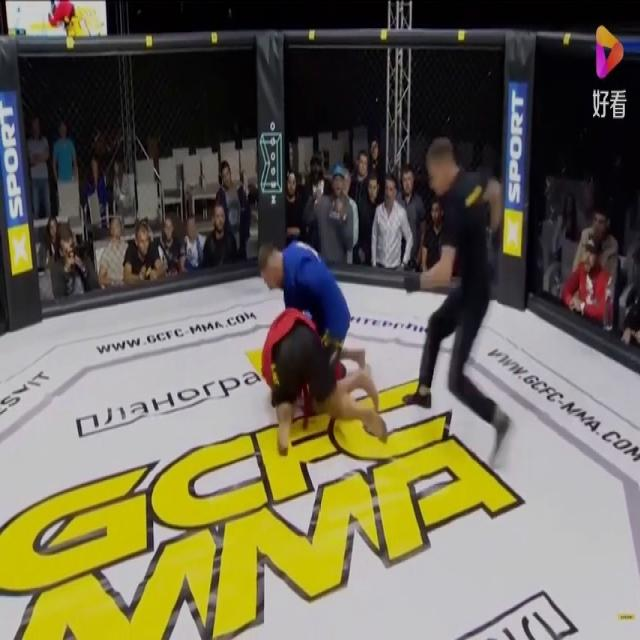fight: (255, 235, 396, 459)
non-fight: (412, 135, 514, 441), (553, 226, 614, 336), (369, 174, 414, 272), (47, 223, 100, 304), (316, 170, 357, 270), (122, 220, 168, 286), (203, 203, 240, 270), (177, 213, 207, 275)
